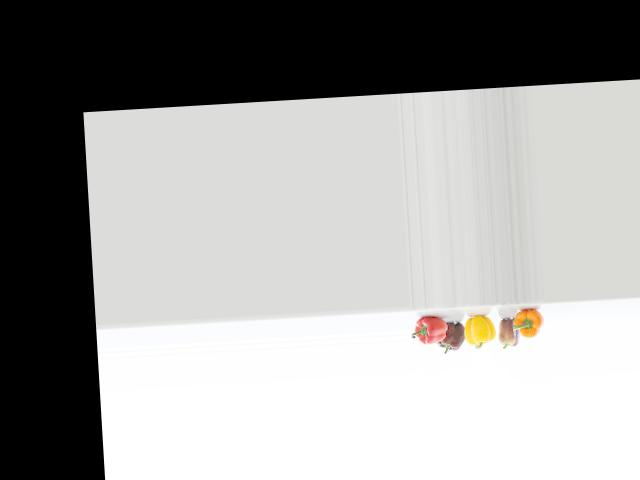bell_pepper: (511, 304, 545, 348)
